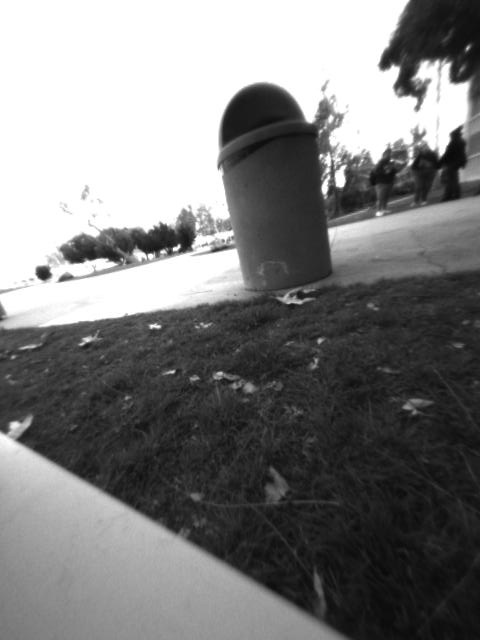trashcan: (217, 79, 337, 289)
